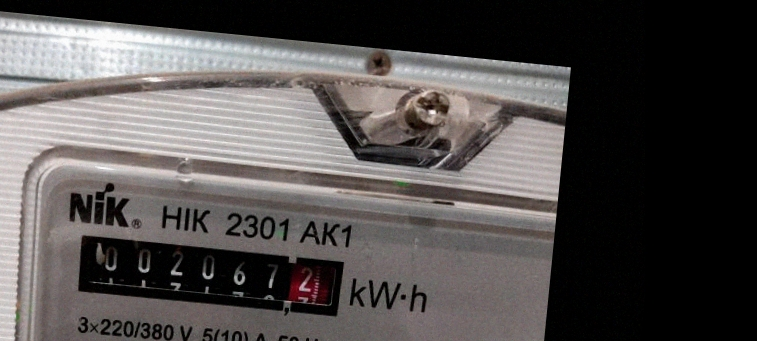0: (100, 243, 121, 273), (134, 244, 154, 275), (197, 250, 217, 280)
2: (295, 263, 316, 293), (167, 247, 187, 278)
6: (229, 256, 250, 287)
7: (262, 260, 281, 291)
screen: (61, 220, 359, 330)
